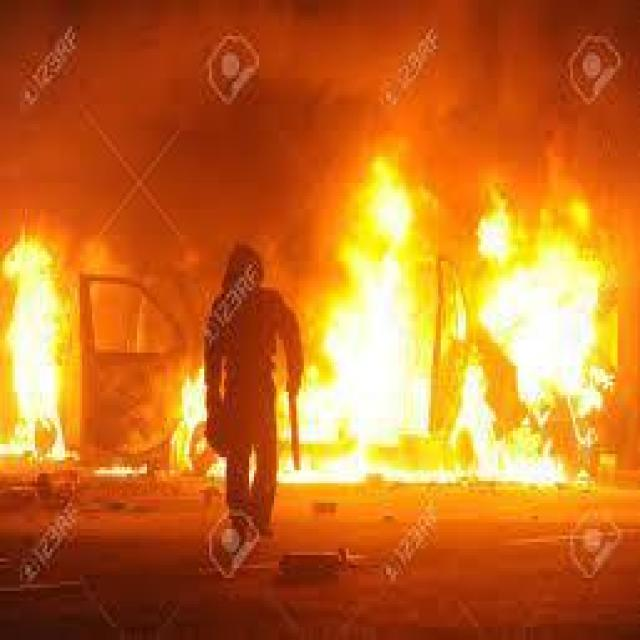fire: (269, 132, 620, 488), (0, 224, 82, 458), (174, 363, 228, 481), (90, 457, 147, 474), (245, 443, 257, 484)
